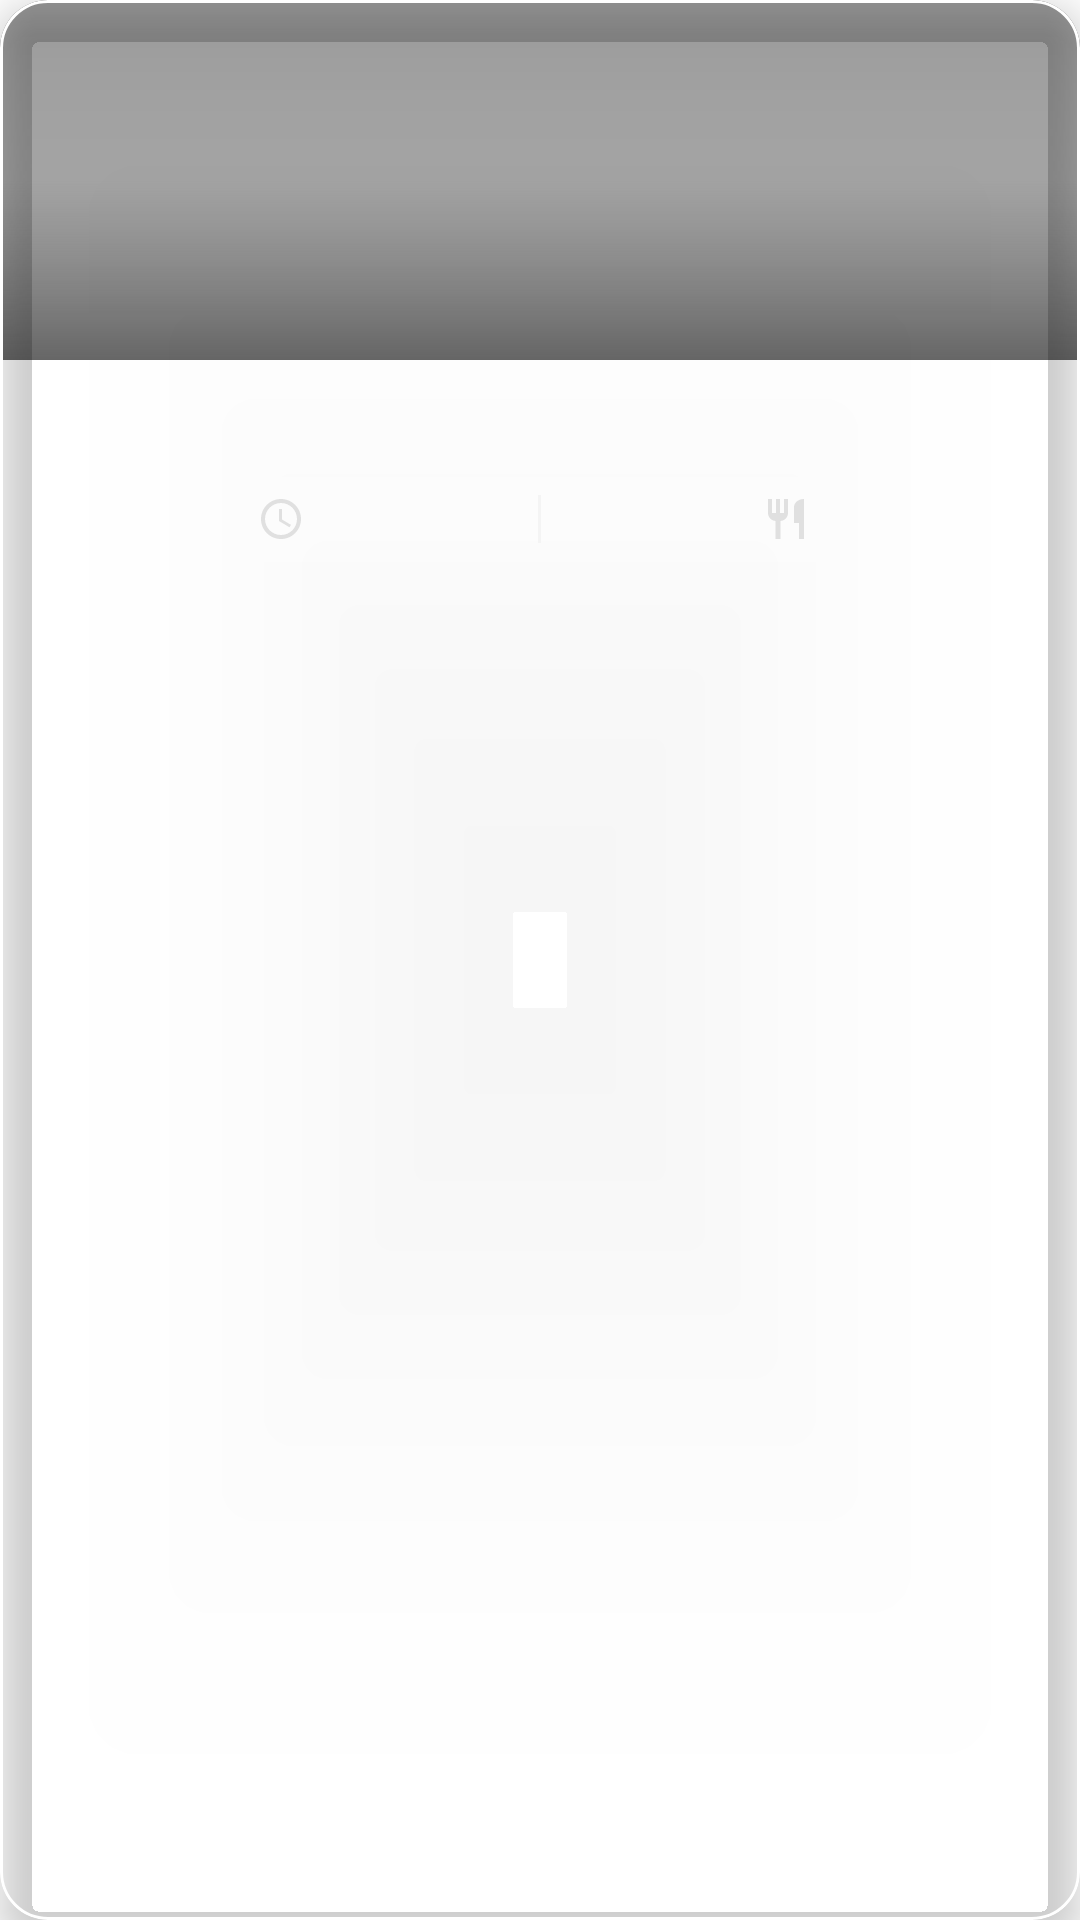

Where to tap for icons on this 1080 x 1920 app screen, as [x,y]:
servings: [786,519]
time: [281,519]
